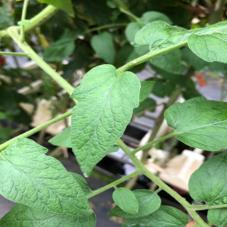Healthy: (69, 64, 142, 178), (0, 137, 93, 218), (164, 96, 227, 153), (112, 186, 139, 215)
